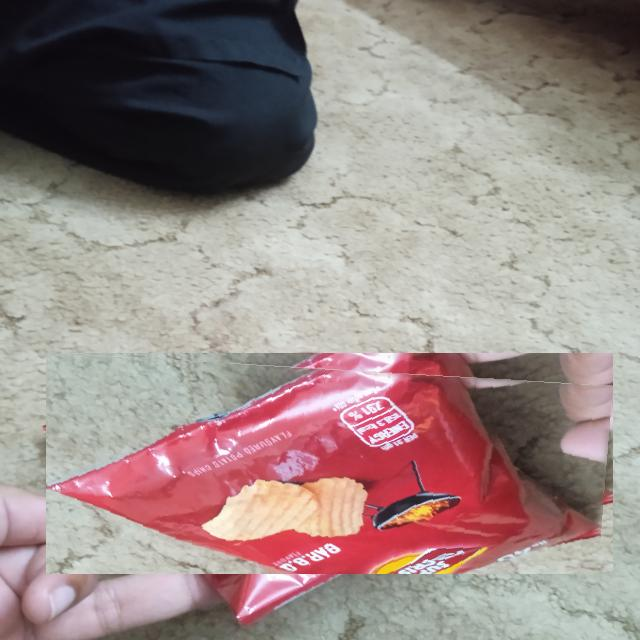Plastic: (46, 352, 613, 574)
